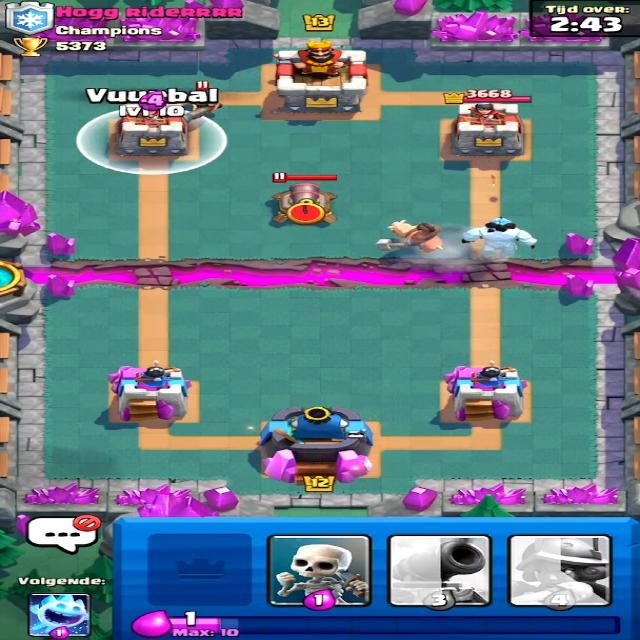Cannon_Card: (387, 536, 492, 605)
Hog_Rider_Troop: (376, 221, 452, 252)
Ice_Golem_Troop: (456, 215, 545, 258)
Musketeer_Card: (509, 536, 614, 606)
Skeleton_Card: (268, 538, 373, 606)
